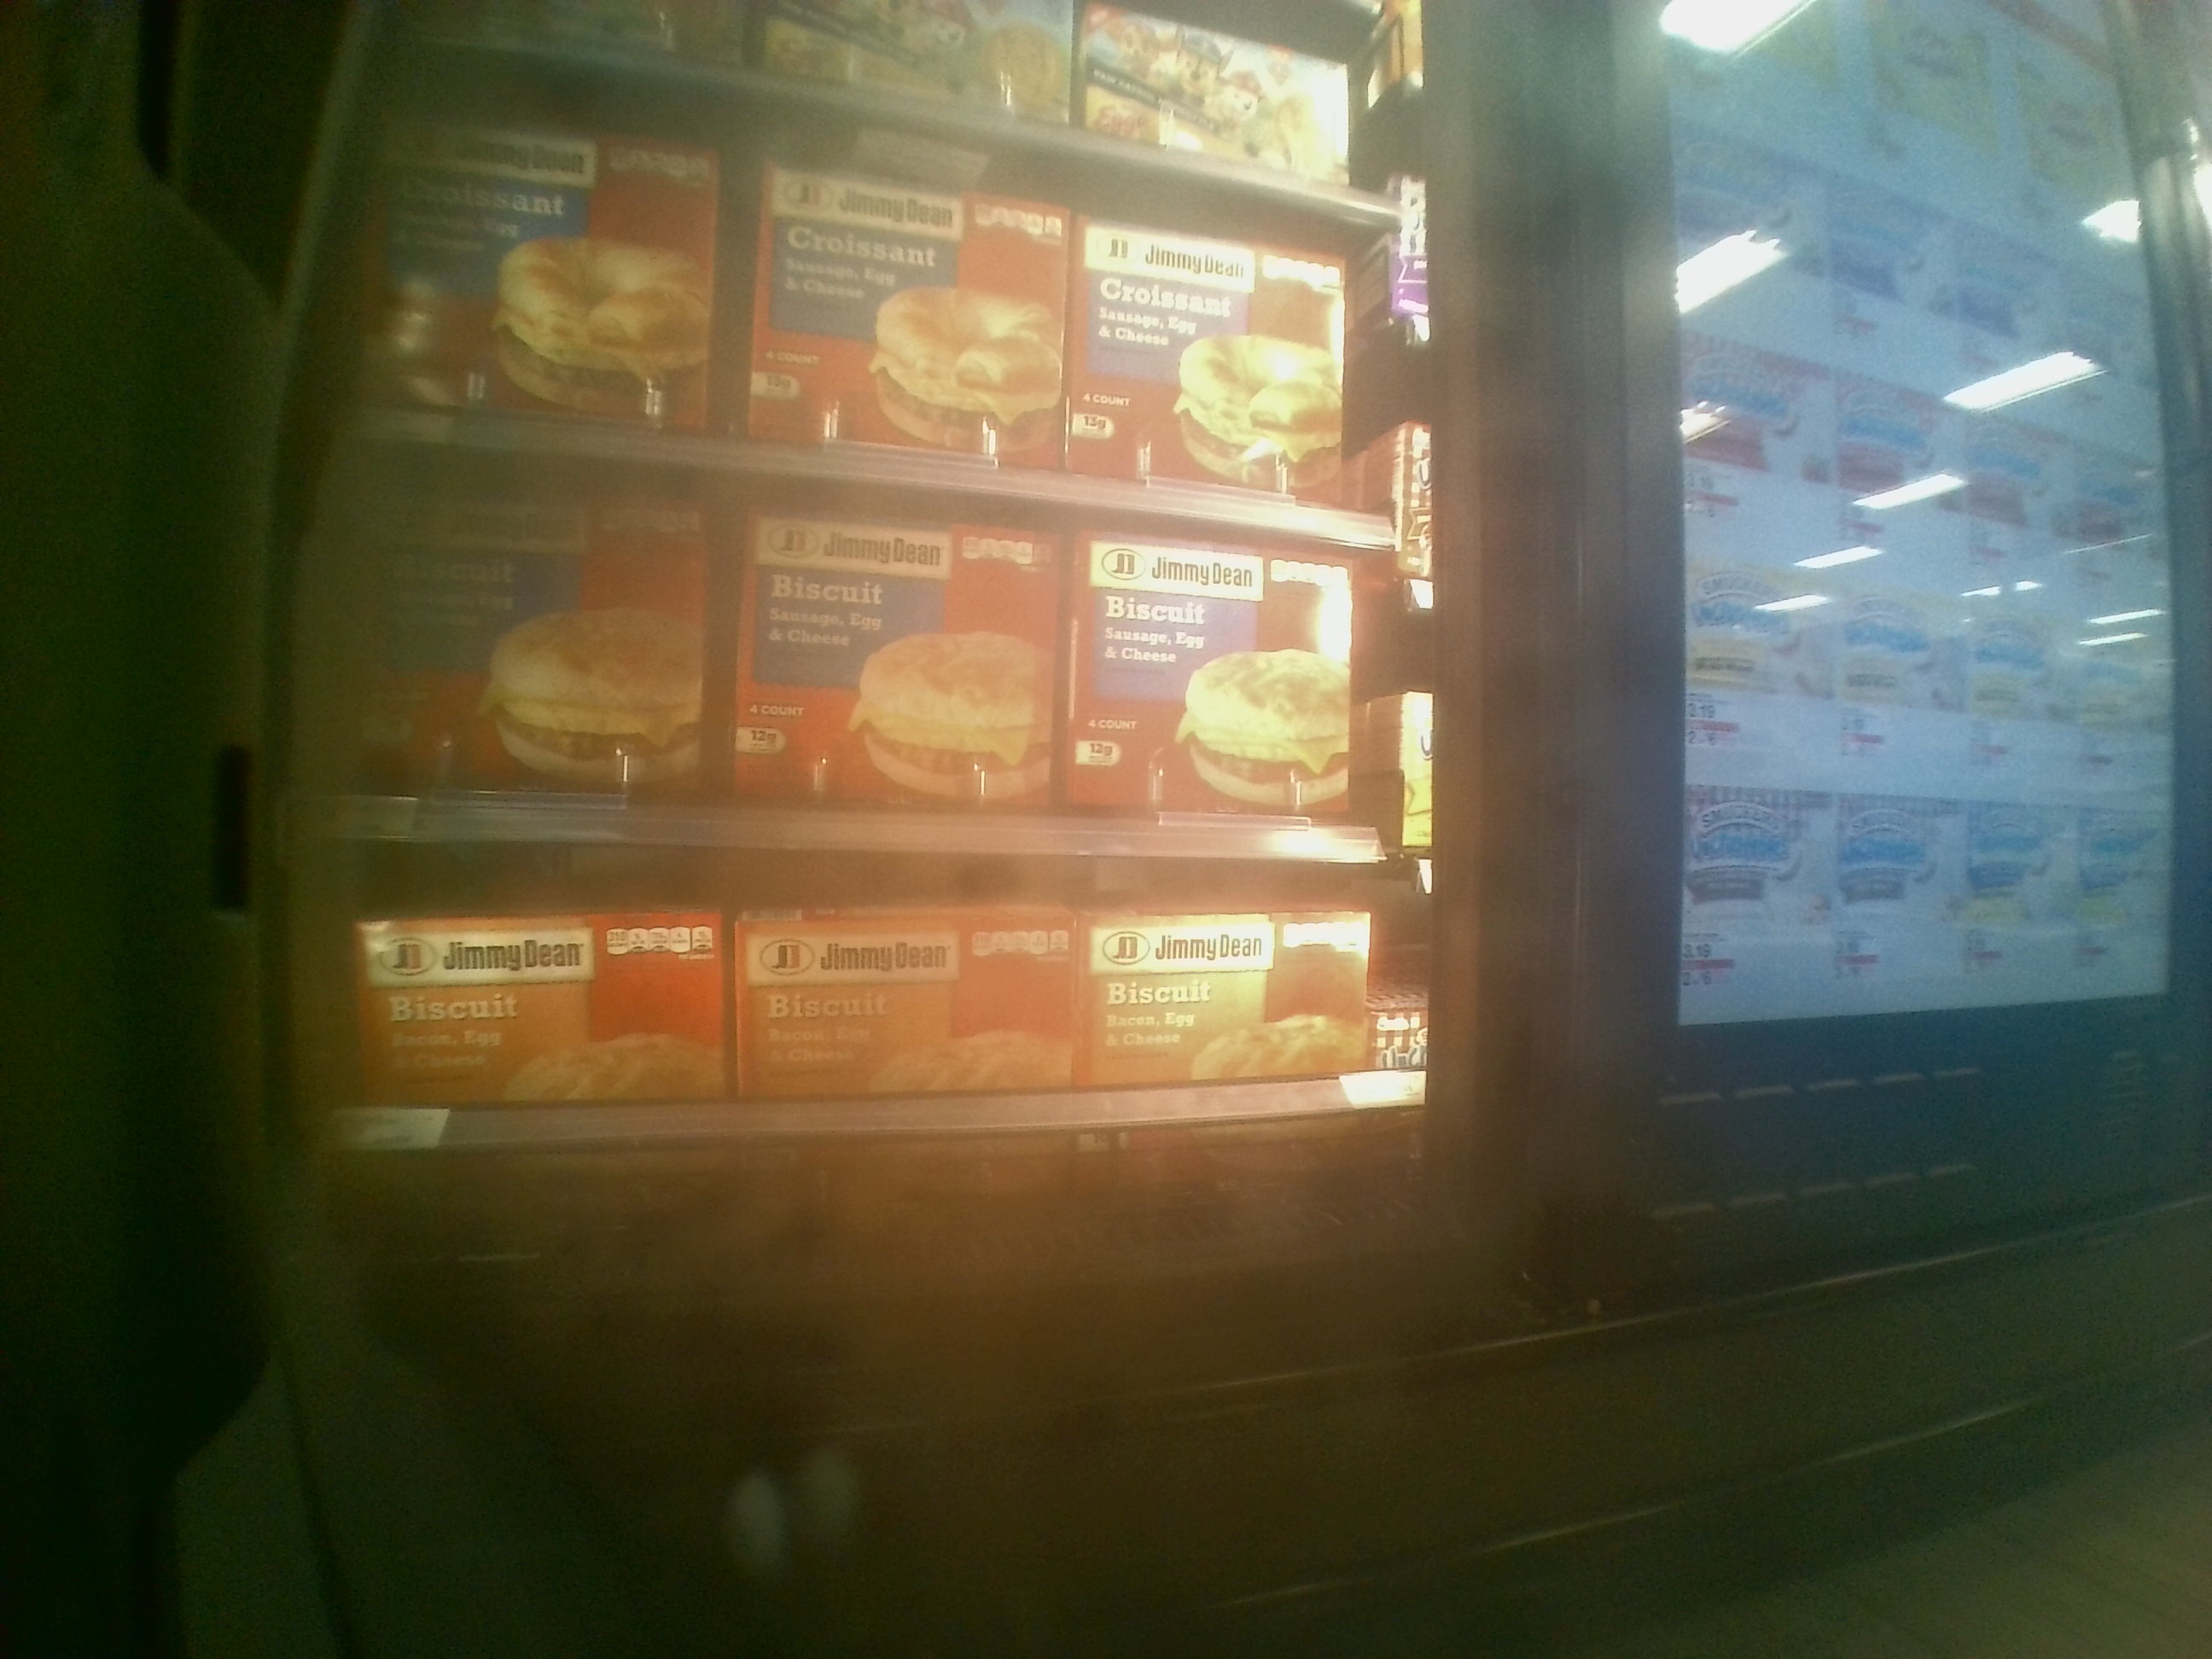shelf: (329, 432, 1428, 870), (308, 833, 1440, 1244)
